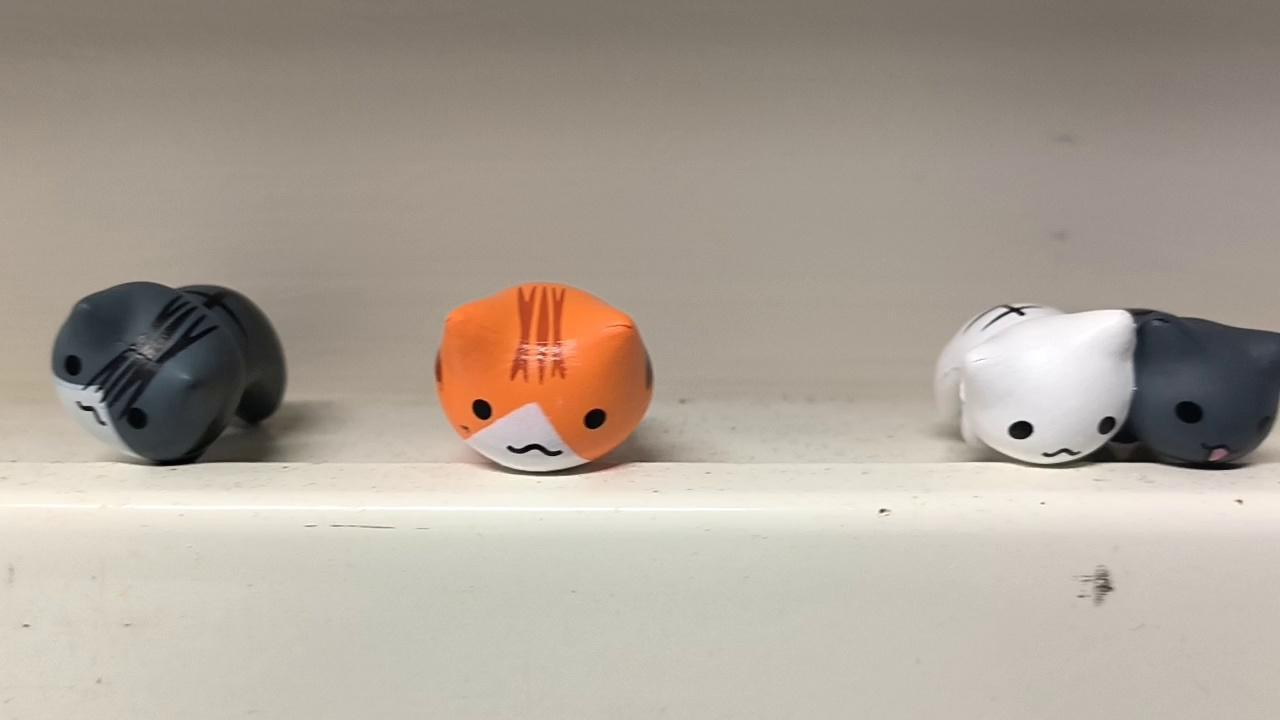pet: (51, 274, 287, 474), (434, 284, 652, 476), (938, 301, 1135, 469), (1144, 304, 1275, 469)
